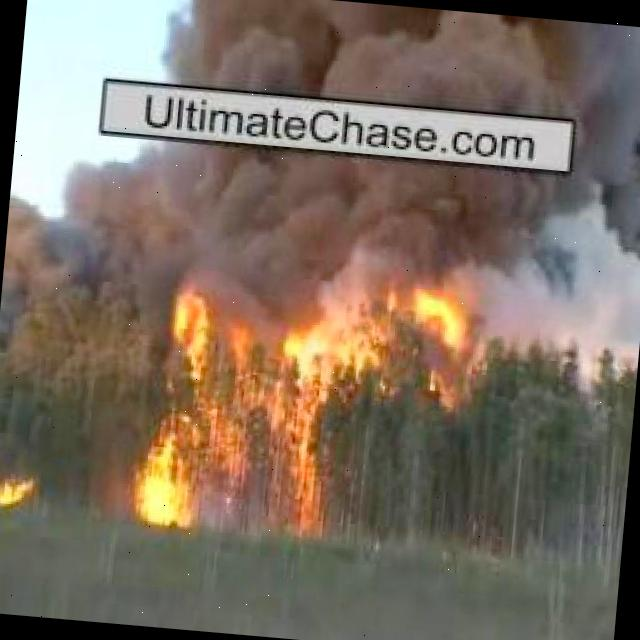fire: (128, 278, 353, 549), (399, 274, 486, 398), (0, 470, 36, 517)
